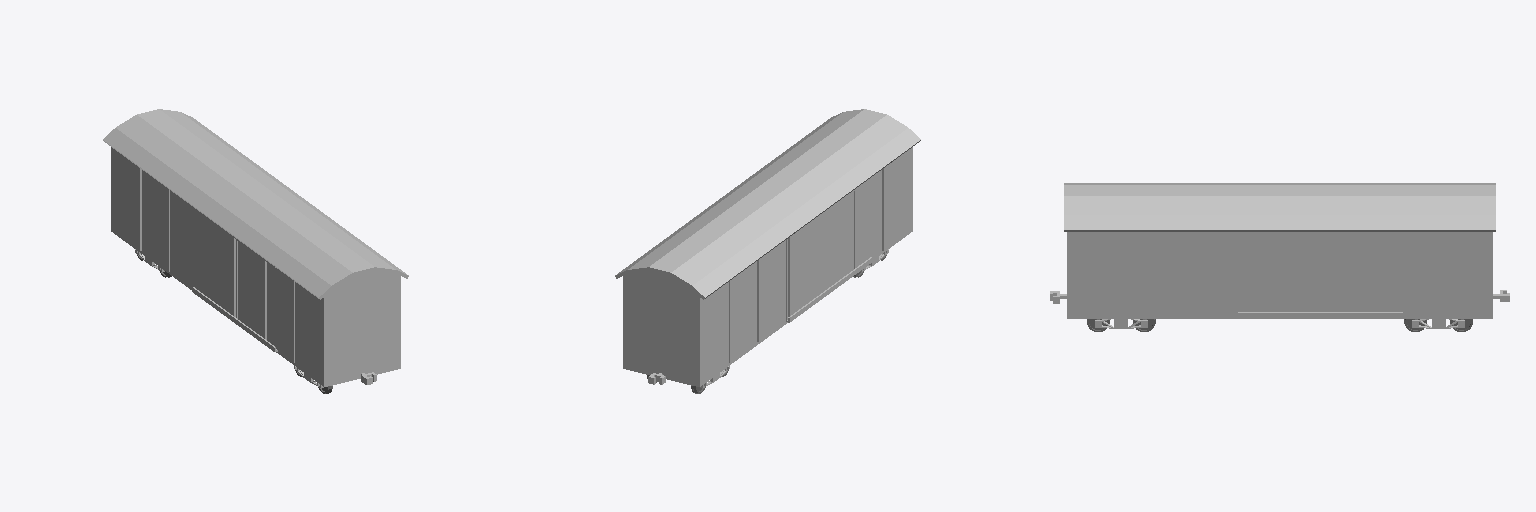
The model's file is dlxtrains_industrial_wagons_covered_goods_type2.obj.
3 renders of one model, left to right at view 1: azimuth 30°, elevation 25°; view 2: azimuth 150°, elevation 25°; view 3: azimuth 270°, elevation 25°, orthographic.
Parts seen in each view (by area): view 1: dlxtrains_industrial_wagons_covered_goods_type2; view 2: dlxtrains_industrial_wagons_covered_goods_type2; view 3: dlxtrains_industrial_wagons_covered_goods_type2.
Boxes of the visible parts, <box> form: dlxtrains_industrial_wagons_covered_goods_type2: <box>103,109,408,393</box>; dlxtrains_industrial_wagons_covered_goods_type2: <box>615,109,920,393</box>; dlxtrains_industrial_wagons_covered_goods_type2: <box>1050,183,1509,331</box>.
Bounding box in the file's own units: 18.41 × 25.36 × 81.25.